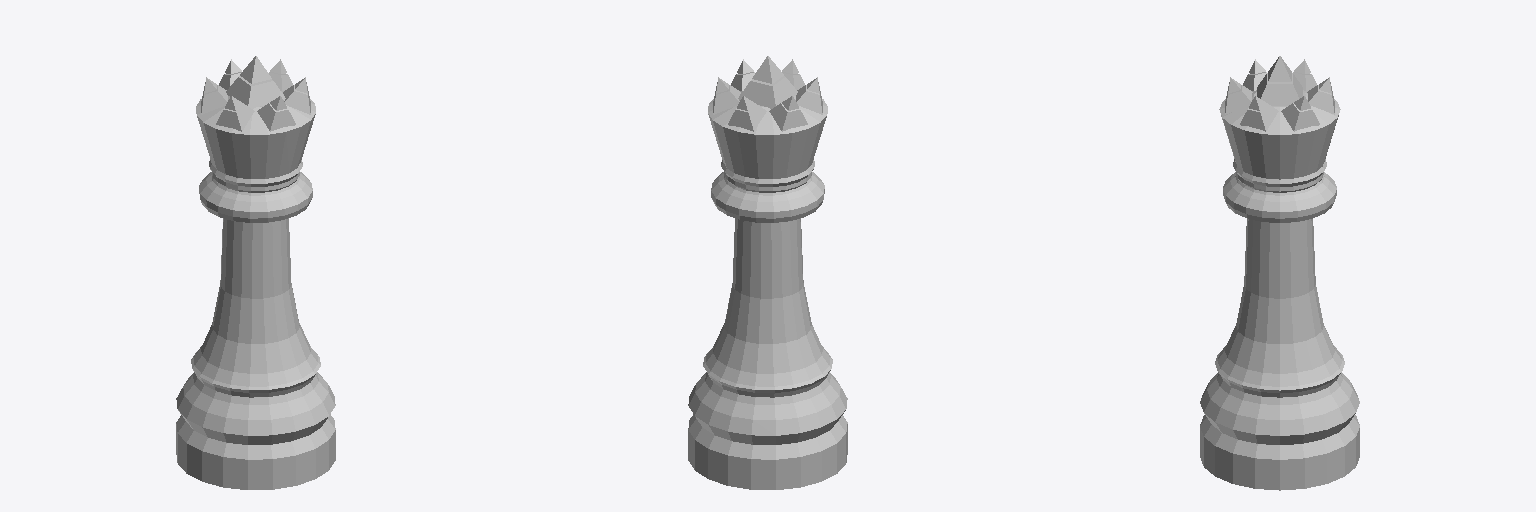
Rendered from chess_queen.obj.
The picture shows the model from 3 angles: view 1: azimuth 30°, elevation 25°; view 2: azimuth 150°, elevation 25°; view 3: azimuth 270°, elevation 25°; orthographic projection.
Parts seen in each view (by area): view 1: Plane.001; view 2: Plane.001; view 3: Plane.001.
Boxes of the visible parts, <box> form: Plane.001: <box>176,56,335,489</box>; Plane.001: <box>688,56,847,489</box>; Plane.001: <box>1200,56,1359,490</box>.
Size of the model in its own units: 1.13 by 3.13 by 1.13.